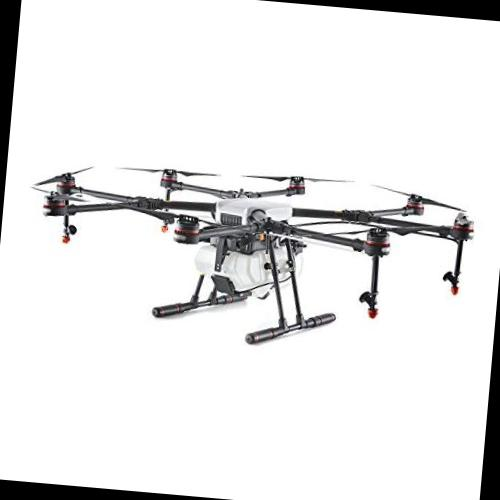drone: (22, 138, 483, 324)
